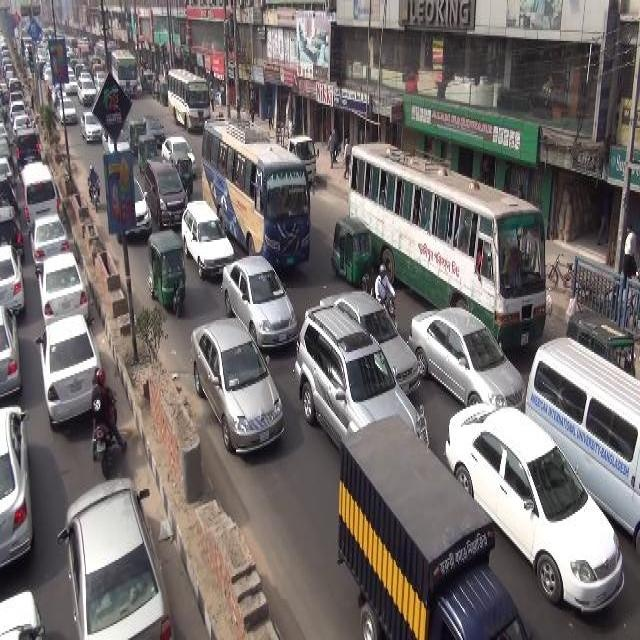Motorcycle: (84, 368, 127, 468)
